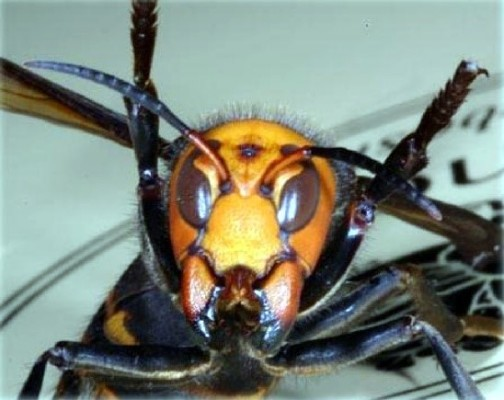asian_giant_hornet: (22, 40, 478, 400)
